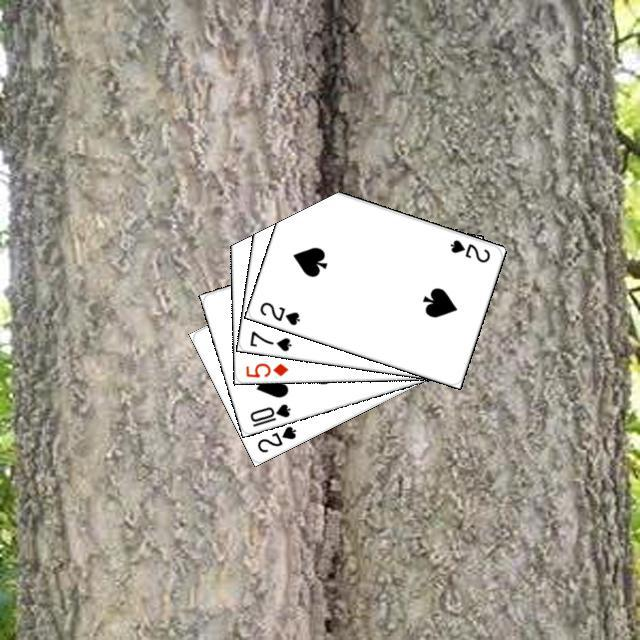10s: (245, 399, 292, 429)
2s: (252, 421, 298, 454), (255, 297, 302, 327), (445, 235, 492, 264)
5d: (241, 358, 290, 379)
7s: (245, 326, 293, 353)
